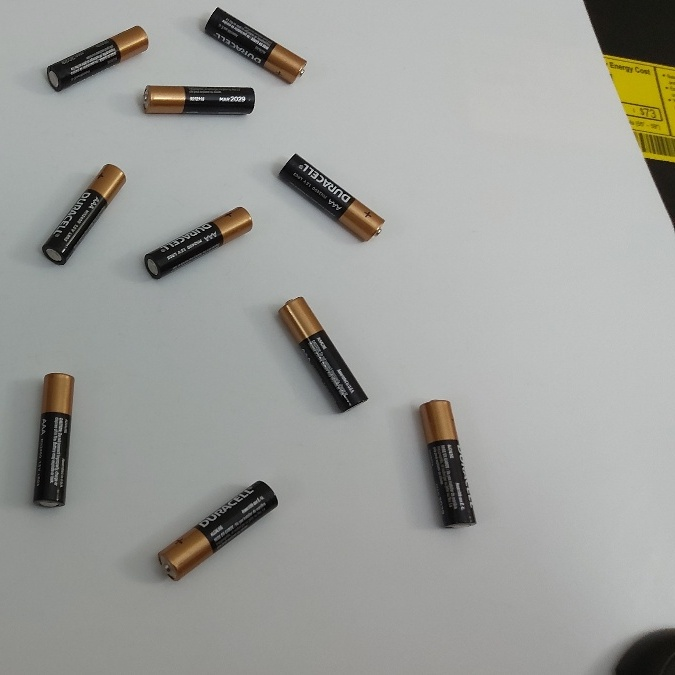battery: (159, 477, 279, 582), (274, 293, 365, 417), (273, 150, 383, 243), (415, 387, 479, 535), (42, 162, 131, 266), (141, 204, 253, 281), (201, 6, 308, 85), (43, 22, 149, 91), (29, 365, 78, 513), (133, 79, 259, 116)
